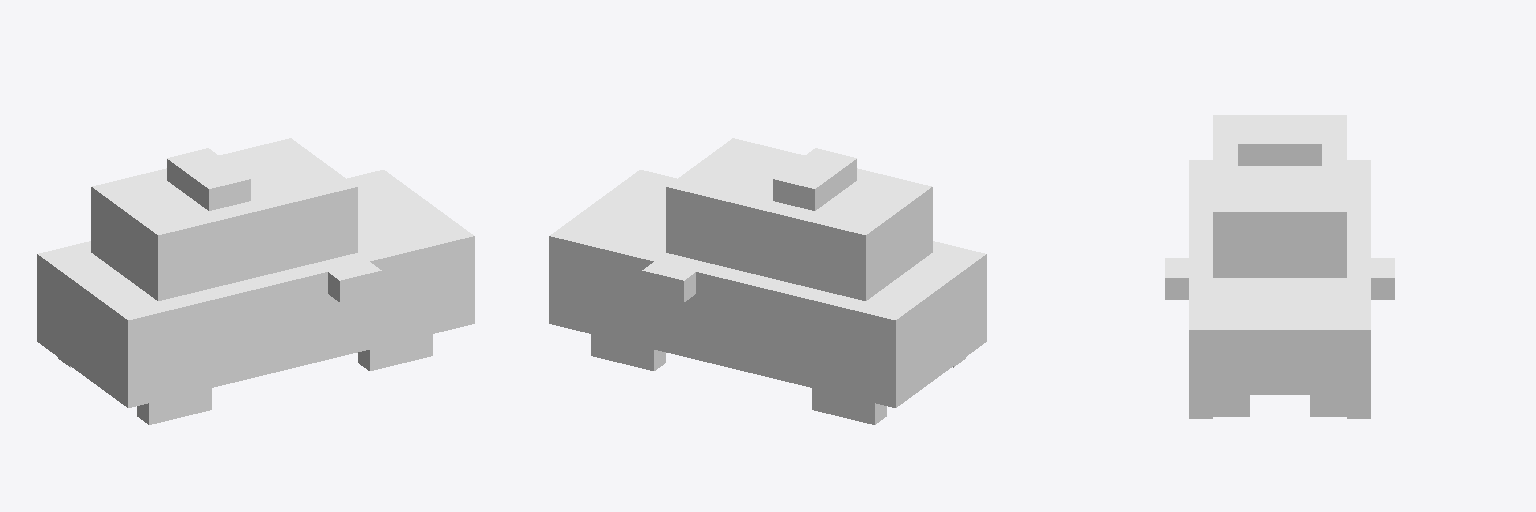
Rendered from Taxi.obj.
3 renders of one model, left to right at view 1: azimuth 30°, elevation 25°; view 2: azimuth 150°, elevation 25°; view 3: azimuth 270°, elevation 25°, orthographic.
Visible parts, largest first — view 1: Taxi; view 2: Taxi; view 3: Taxi.
Boxes of the visible parts, box(x1,y1,x2,y2) form: Taxi: box(37, 138, 474, 424); Taxi: box(549, 138, 986, 424); Taxi: box(1165, 115, 1394, 418).
Bounding box in the file's own units: 33 × 18 × 19.